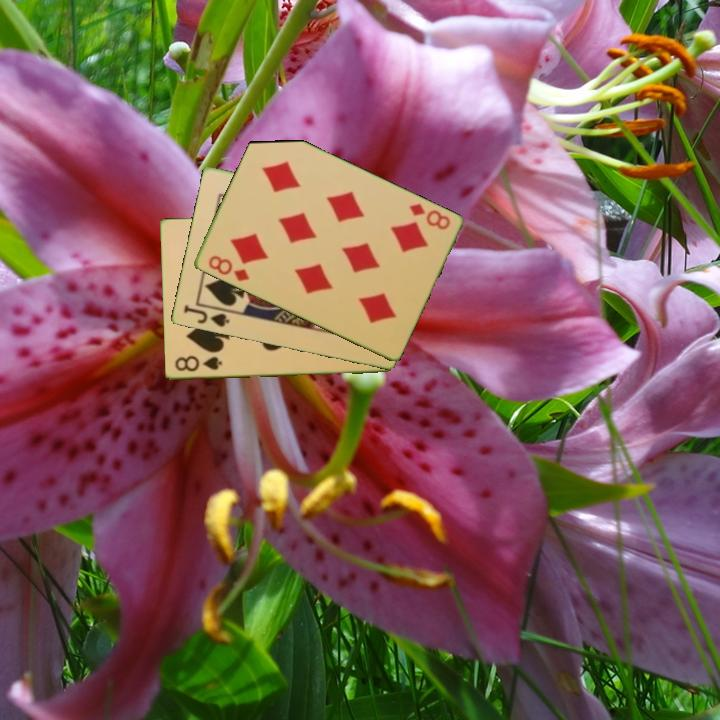8d: (405, 199, 453, 233), (204, 252, 252, 285)
8s: (171, 353, 224, 375)
Js: (180, 301, 232, 330)
